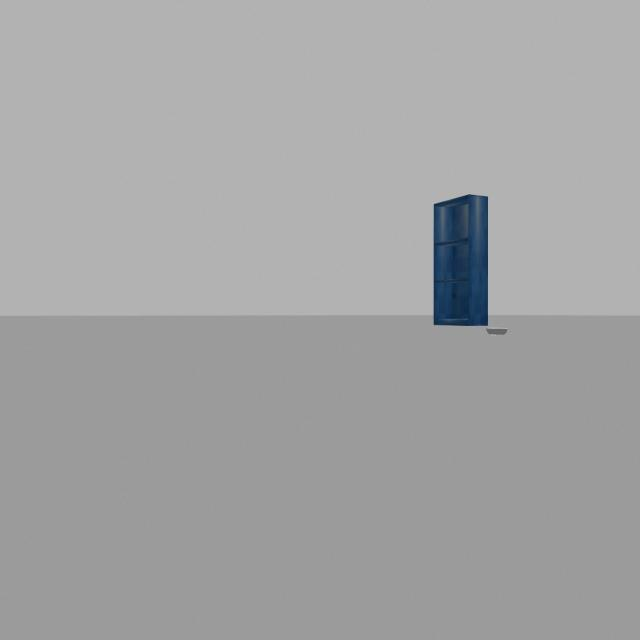bowl: (484, 323, 513, 340)
shelf: (426, 179, 492, 330)
